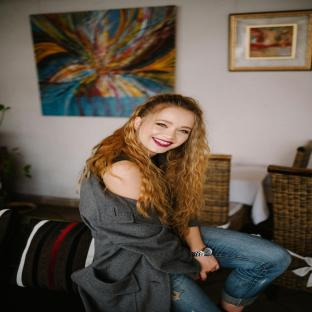Human: (72, 94, 291, 312)
